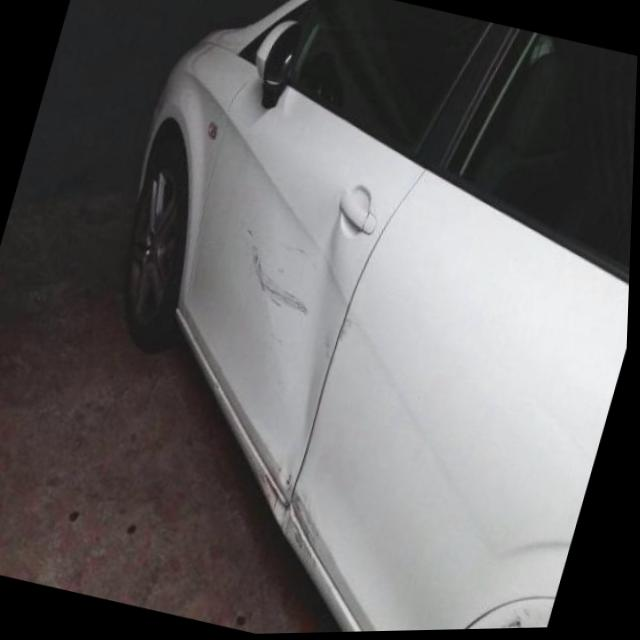Car-Damage: (231, 207, 366, 439), (240, 453, 343, 567), (222, 220, 327, 316), (490, 590, 559, 631)
